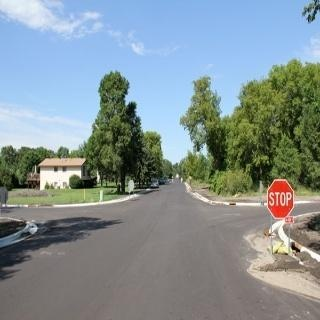sign_stop: (266, 177, 293, 219)
